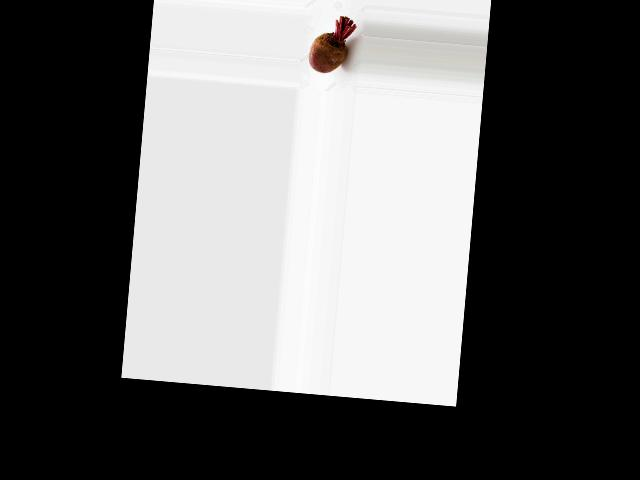beet: (307, 13, 357, 76)
